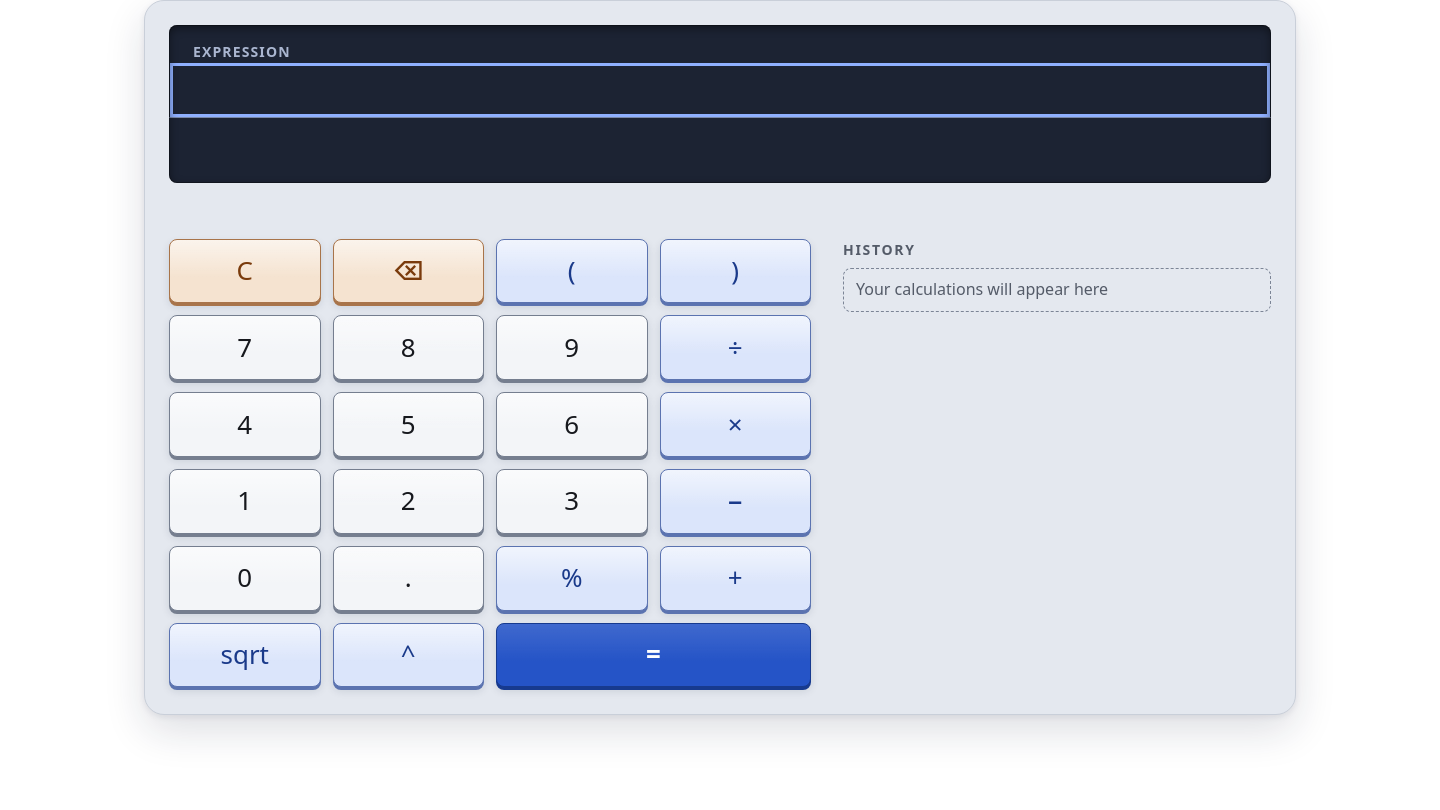
Test: <Calculator /> › keypad (FR-10.2, FR-10.3) › inserts sqrt( for the square root key
The image size is (1440, 810).
Step 1. Click the button with aria-label "sqrt, square root" → (245, 655), box [169, 623, 320, 687]
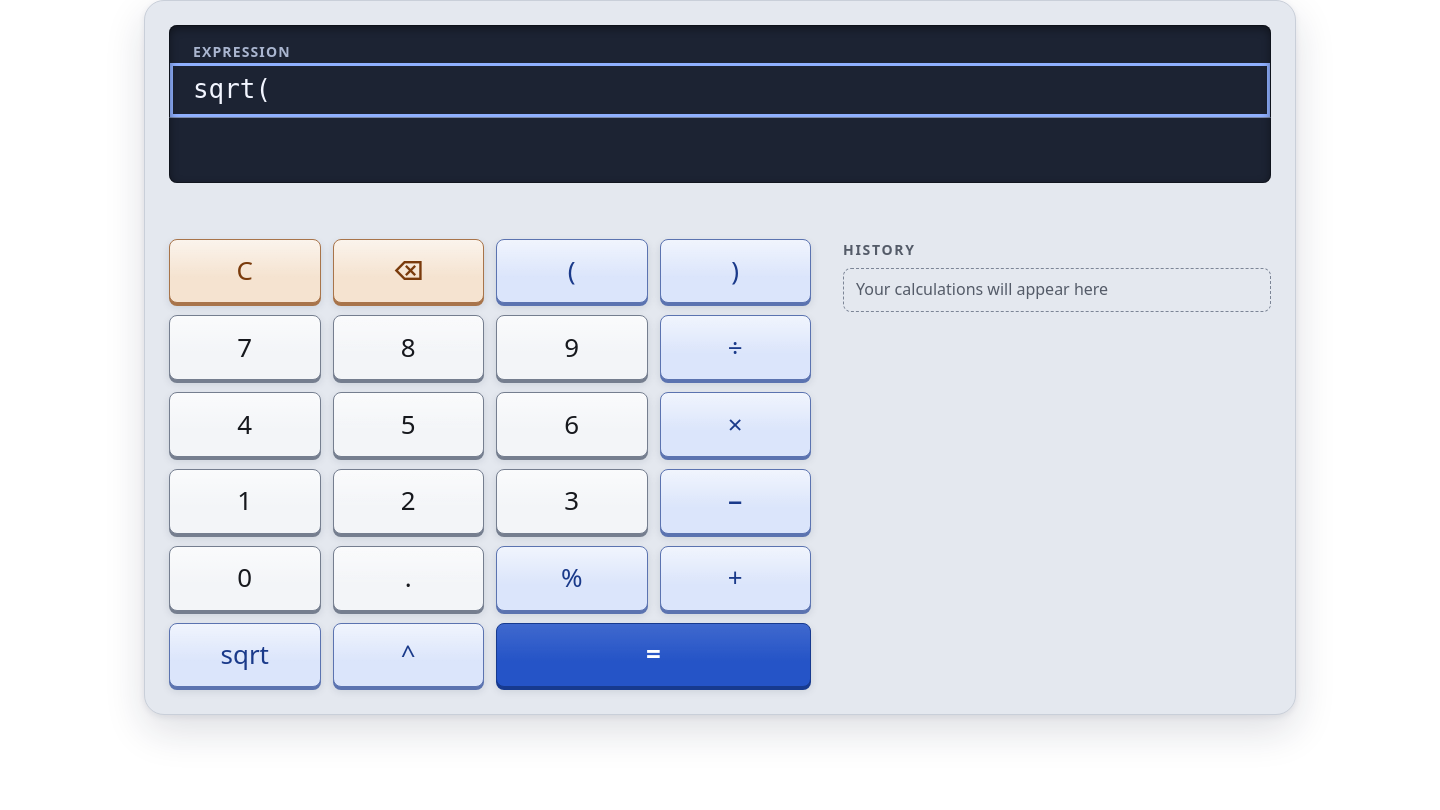
Step 2. Click the button "1" → (245, 501), box [169, 469, 320, 534]
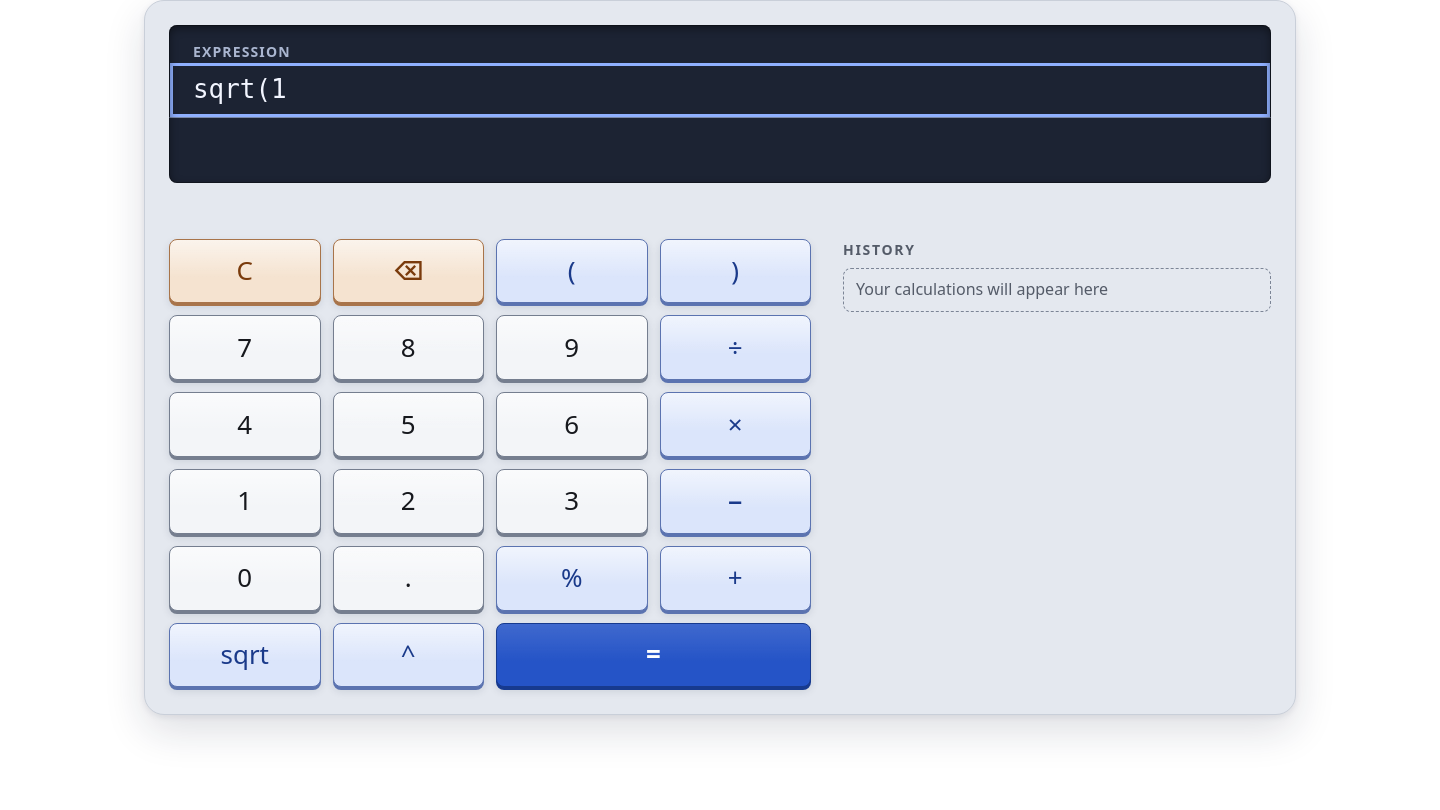
Step 3. Click the button "6" → (572, 425), box [496, 392, 648, 457]
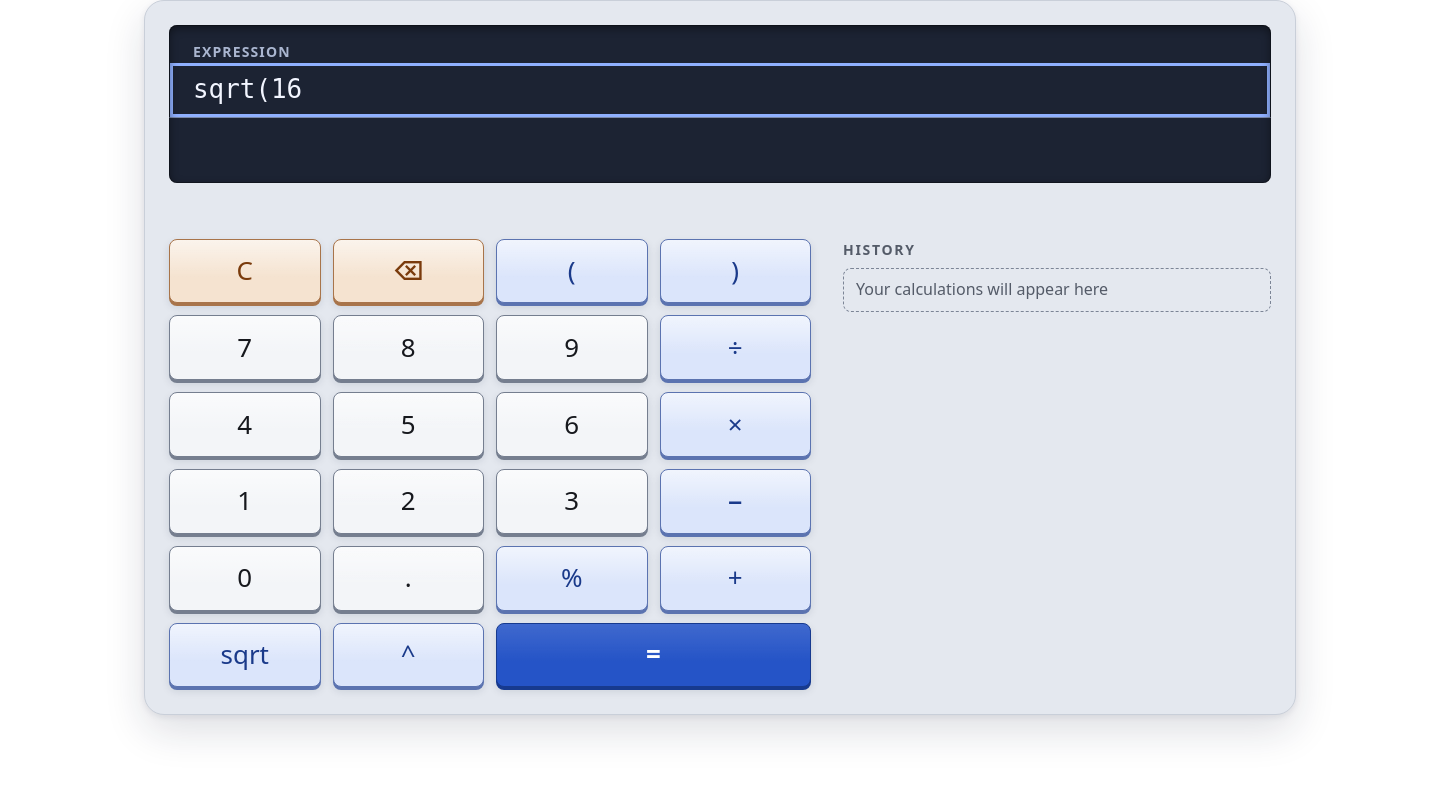
Step 4. Click the button named "close parenthesis" → (735, 271), box [660, 239, 811, 304]
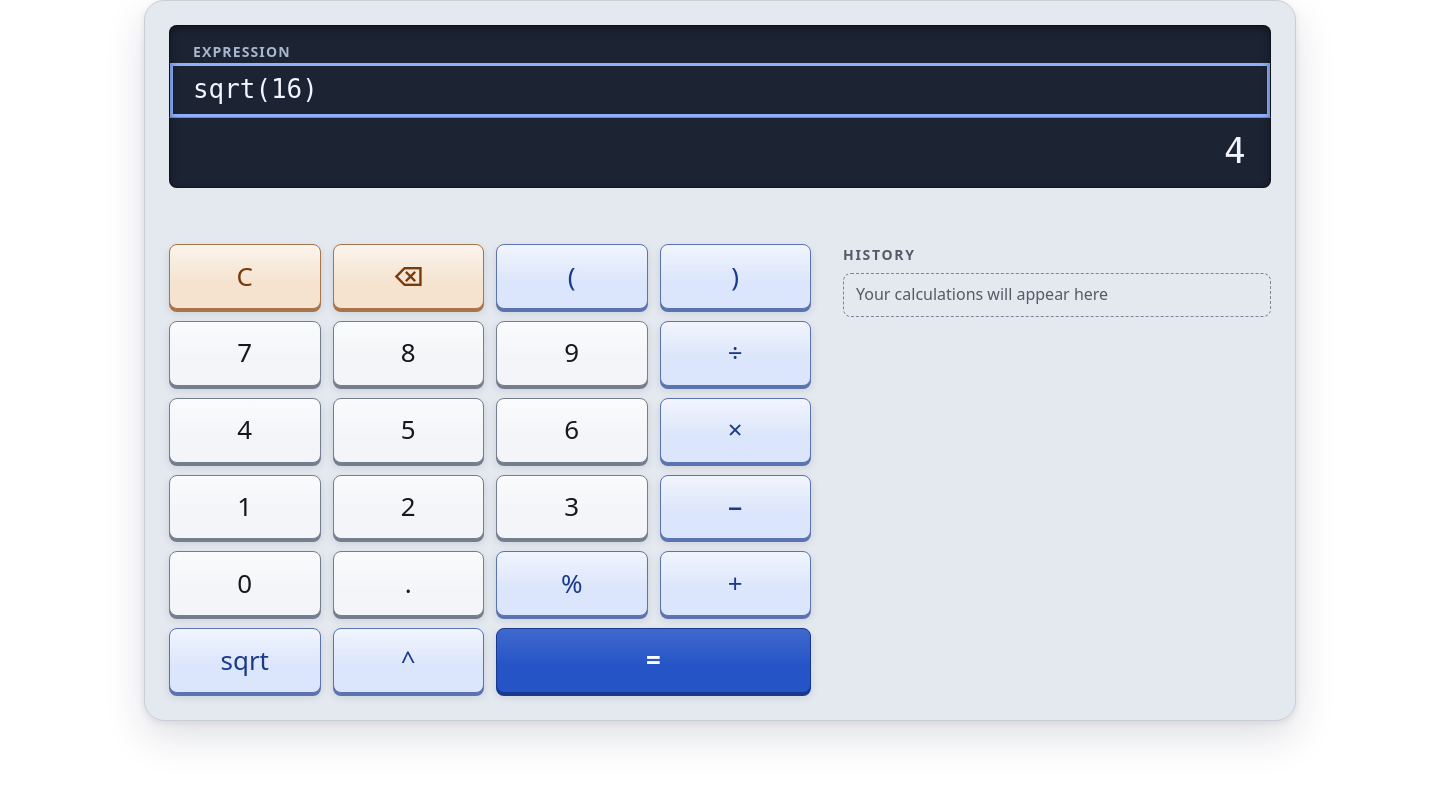
Check: the field labelled "Expression" holds "sqrt(16)", box [169, 62, 1271, 118]
Check: the text named "Result" reads "4", box [1224, 130, 1247, 171]
